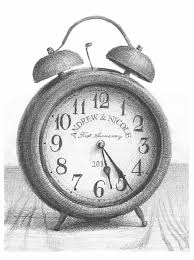clock: (40, 83, 163, 210)
